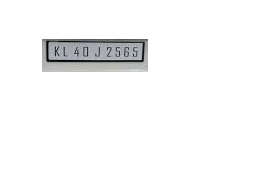numberplate: (44, 40, 145, 63)
